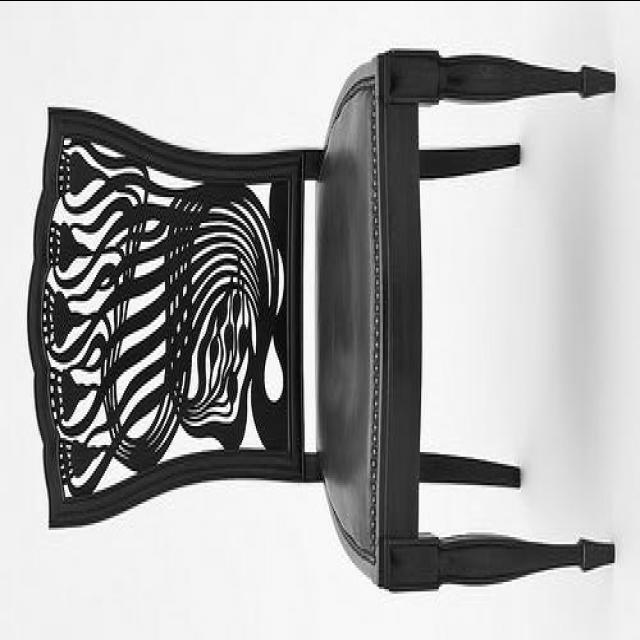chair: (28, 45, 616, 598)
